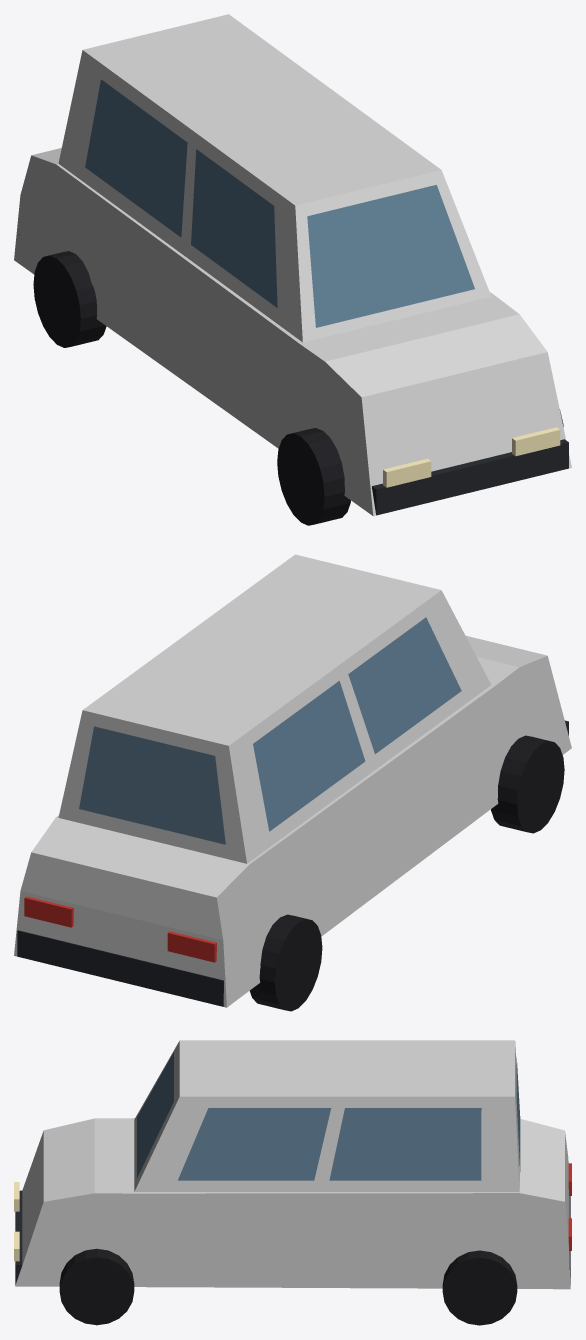
The model's file is black_cab.glb.
3 views of the same model, one above another, from view 1: azimuth 30°, elevation 25°; view 2: azimuth 150°, elevation 25°; view 3: azimuth 270°, elevation 25° (orthographic). The views are drawn at different scales.
Parts seen in each view (by area): view 1: body, cabin, glass_screen, glass_side_0_L, glass_side_1_L, bumper_nose, wheel_1_L_tyre, wheel_0_L_tyre, head_L, head_R; view 2: body, cabin, glass_back, glass_side_0_L, glass_side_1_L, bumper_tail, wheel_1_L_tyre, wheel_0_L_tyre, tail_L, tail_R; view 3: body, cabin, glass_side_0_R, glass_side_1_R, wheel_1_R_tyre, wheel_0_R_tyre, glass_screen, bumper_nose.
Boxes of the visible parts, x1,y1,x2,y2 form: body: [14, 148, 571, 516]; cabin: [58, 14, 491, 342]; glass_screen: [307, 185, 474, 327]; glass_side_0_L: [85, 79, 187, 237]; glass_side_1_L: [191, 149, 277, 307]; bumper_nose: [372, 439, 568, 515]; wheel_1_L_tyre: [277, 428, 350, 525]; wheel_0_L_tyre: [33, 251, 106, 347]; head_L: [383, 458, 431, 487]; head_R: [512, 427, 560, 456]; body: [14, 635, 571, 1007]; cabin: [58, 554, 491, 863]; glass_back: [79, 726, 225, 844]; glass_side_0_L: [253, 681, 365, 831]; glass_side_1_L: [348, 617, 461, 753]; bumper_tail: [17, 930, 223, 1006]; wheel_1_L_tyre: [491, 735, 564, 833]; wheel_0_L_tyre: [250, 914, 322, 1011]; tail_L: [167, 931, 216, 962]; tail_R: [24, 896, 73, 927]; body: [15, 1118, 570, 1289]; cabin: [134, 1040, 519, 1191]; glass_side_0_R: [329, 1108, 481, 1180]; glass_side_1_R: [178, 1108, 331, 1180]; wheel_1_R_tyre: [59, 1248, 134, 1325]; wheel_0_R_tyre: [442, 1250, 517, 1325]; glass_screen: [137, 1052, 173, 1177]; bumper_nose: [15, 1190, 22, 1284].
Size of the model in its own units: 1.94 by 2.05 by 4.92.
